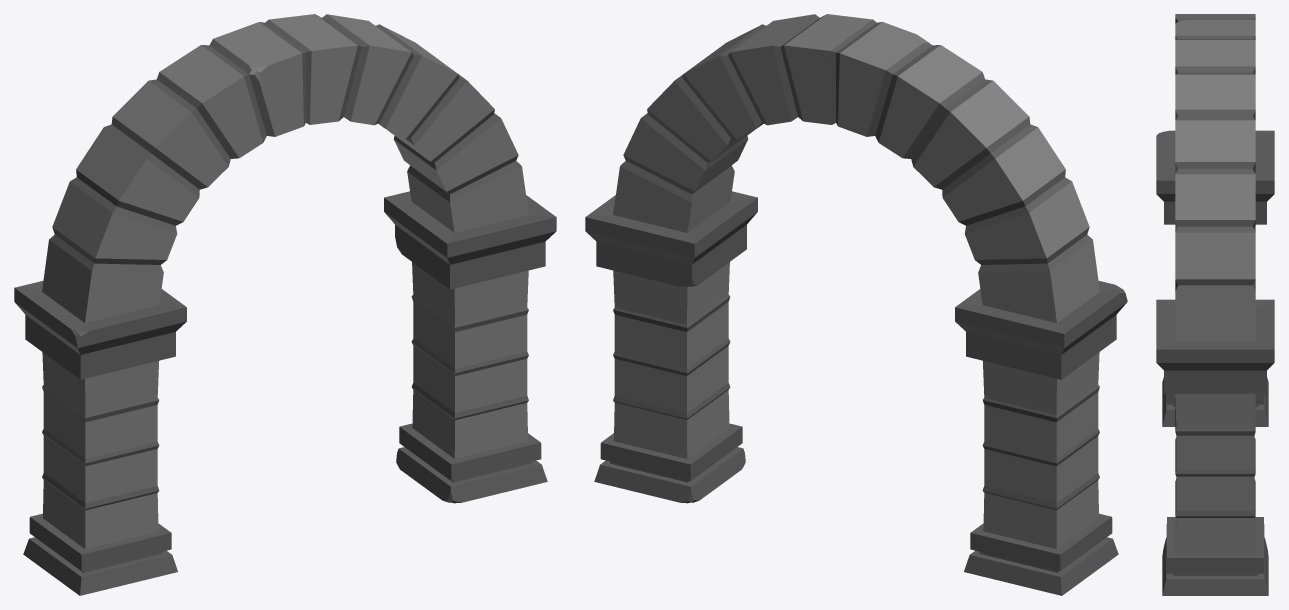
File: Arch_02.fbx
The picture shows the model from 3 angles, left to right: view 1: azimuth 30°, elevation 25°; view 2: azimuth 150°, elevation 25°; view 3: azimuth 270°, elevation 25°; orthographic projection. The views are drawn at different scales.
Visible parts, largest first — view 1: Arch_02; view 2: Arch_02; view 3: Arch_02.
Part boxes in pixels (left/top/right/bottom): Arch_02: left=14, top=14, right=556, bottom=595; Arch_02: left=585, top=14, right=1127, bottom=595; Arch_02: left=1156, top=14, right=1274, bottom=595.
Size of the model in its own units: 252 by 242 by 57.57.
